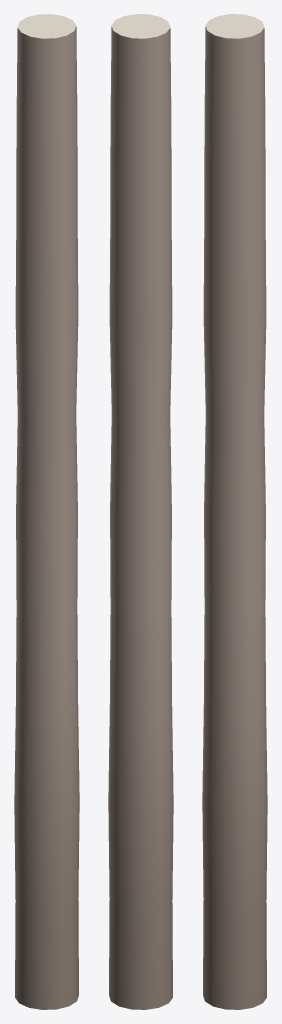
Rendered from post5_wood.glb.
3 renders of one model, left to right at view 1: azimuth 30°, elevation 25°; view 2: azimuth 150°, elevation 25°; view 3: azimuth 330°, elevation 25°, orthographic.
Parts seen in each view (by area): view 1: post5_wood; view 2: post5_wood; view 3: post5_wood.
Boxes of the visible parts, box(x1,y1,x2,y2) form: post5_wood: box(14, 14, 79, 1009); post5_wood: box(108, 14, 173, 1009); post5_wood: box(202, 14, 267, 1009).
Bounding box in the file's own units: 0.3054 × 5 × 0.2978.
